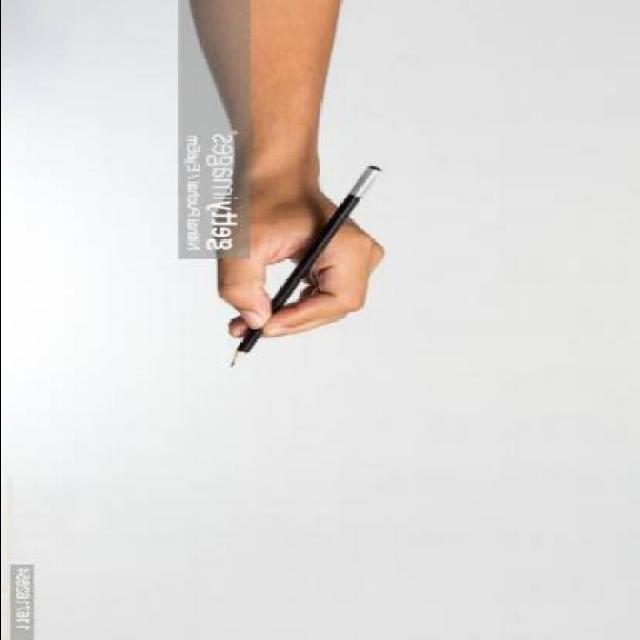pencil: (218, 338, 260, 371)
